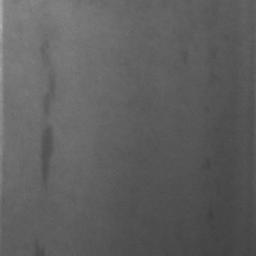Inclusion: (40, 124, 54, 182)
